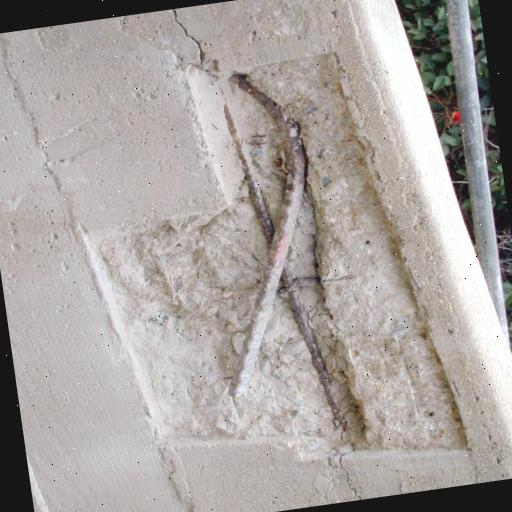spalling: (92, 48, 466, 450), (152, 6, 219, 63)
